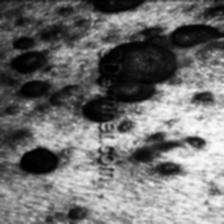Unclassified: (114, 44, 172, 80), (15, 149, 56, 175)
